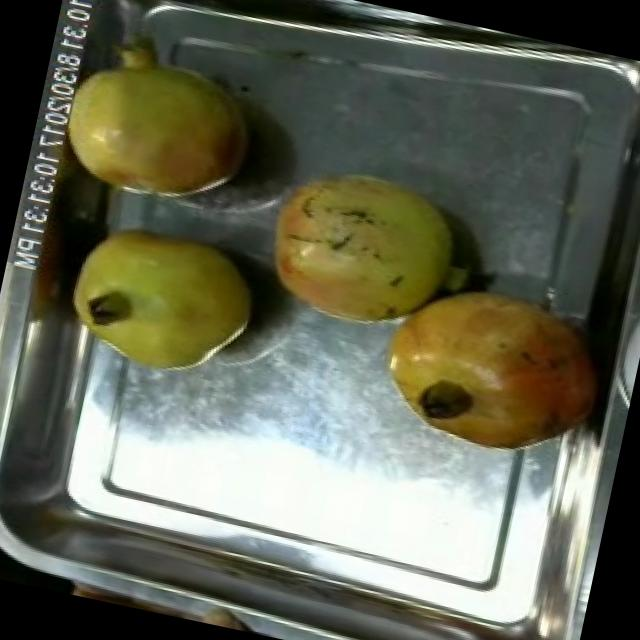fruit: (360, 258, 620, 474), (27, 24, 277, 228), (241, 145, 485, 354), (54, 207, 272, 393)
